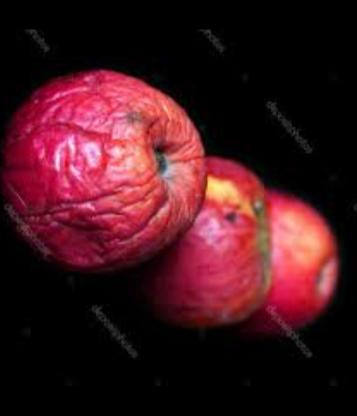defect: (0, 64, 234, 299)
